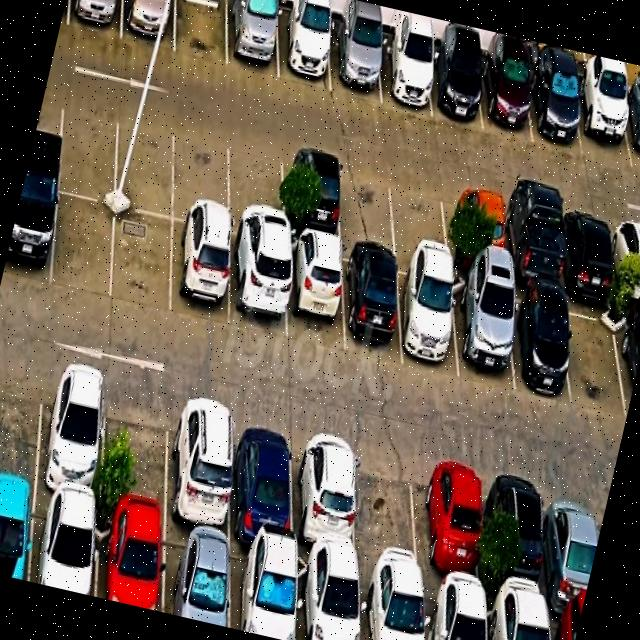empty: (100, 378, 170, 524), (353, 437, 421, 582), (564, 292, 628, 414), (114, 107, 177, 219), (51, 193, 115, 300), (57, 93, 118, 203), (111, 208, 172, 317), (172, 121, 228, 232), (229, 133, 283, 246), (0, 353, 44, 490), (391, 168, 448, 260), (340, 157, 396, 250), (174, 0, 227, 66)
occupied: (35, 361, 106, 507), (166, 393, 232, 538), (293, 423, 357, 566), (419, 450, 481, 596), (230, 408, 292, 550), (493, 465, 547, 608), (504, 284, 570, 399), (451, 273, 514, 391), (545, 477, 598, 615), (397, 259, 458, 378), (343, 246, 402, 362), (29, 495, 96, 596), (162, 526, 229, 627), (286, 234, 343, 352), (96, 511, 162, 612), (229, 542, 294, 640), (170, 222, 229, 327), (2, 180, 58, 287), (229, 237, 285, 341), (501, 193, 561, 290), (446, 181, 504, 275), (283, 146, 341, 240), (296, 556, 359, 640), (573, 78, 631, 168), (560, 205, 615, 296), (528, 64, 582, 155), (427, 46, 482, 130), (480, 54, 532, 142), (277, 7, 330, 91), (377, 34, 431, 116), (359, 573, 423, 640), (227, 0, 278, 79), (330, 24, 380, 102), (423, 584, 484, 640), (0, 488, 35, 581), (121, 0, 175, 51), (486, 597, 547, 640), (611, 214, 640, 300), (67, 0, 122, 39), (620, 304, 640, 407), (619, 87, 640, 170), (547, 609, 580, 640)
